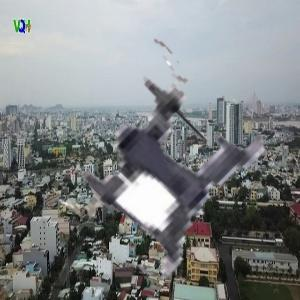drone: (50, 52, 283, 285)
